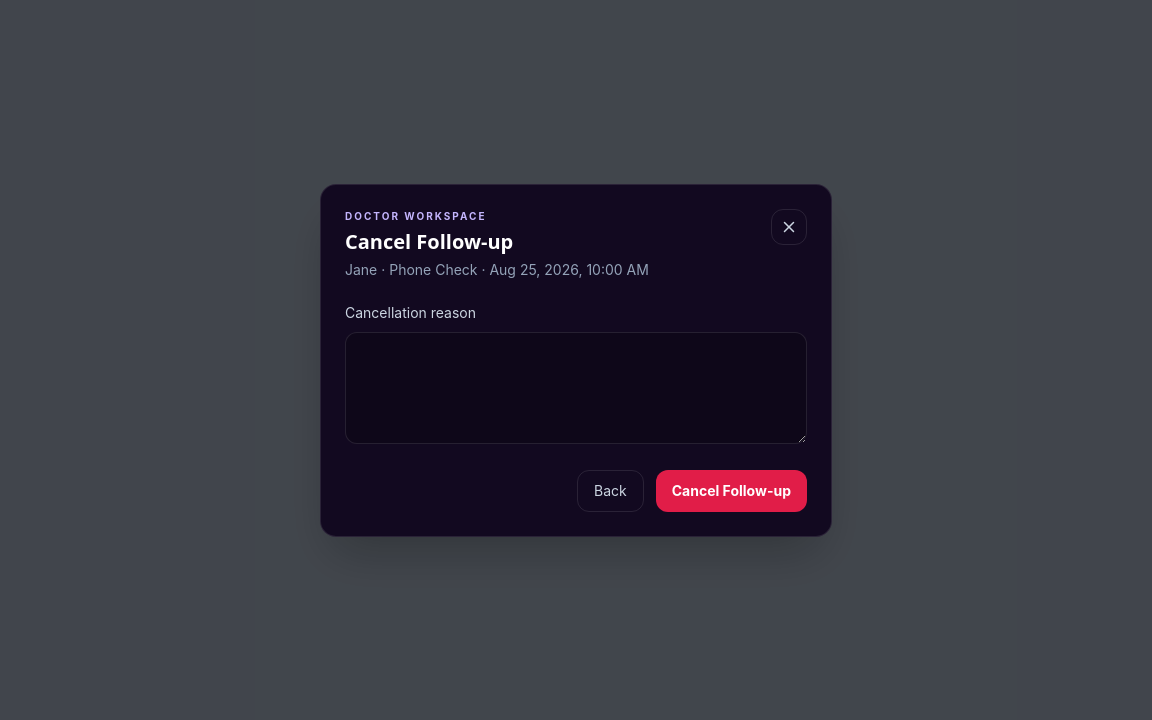
requires a reason before canceling
Click the button "Cancel Follow-up" at (731, 490), box [656,470,807,512]
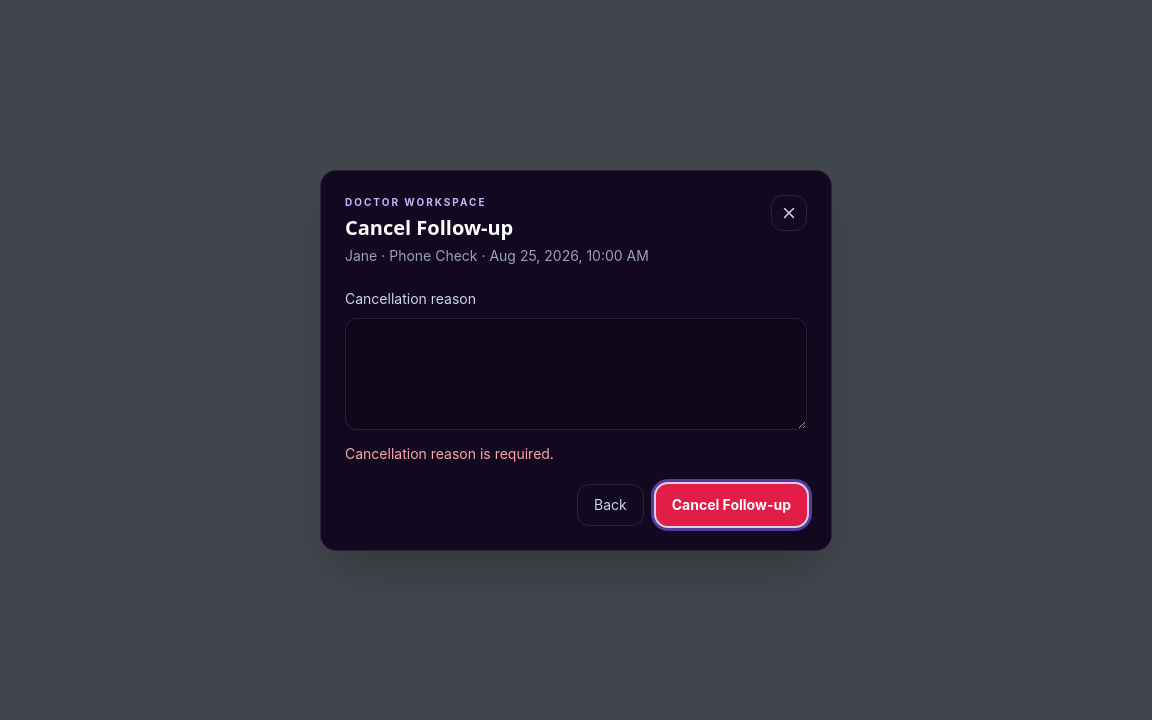
expect the message shows "required": met, box [345,444,554,462]
